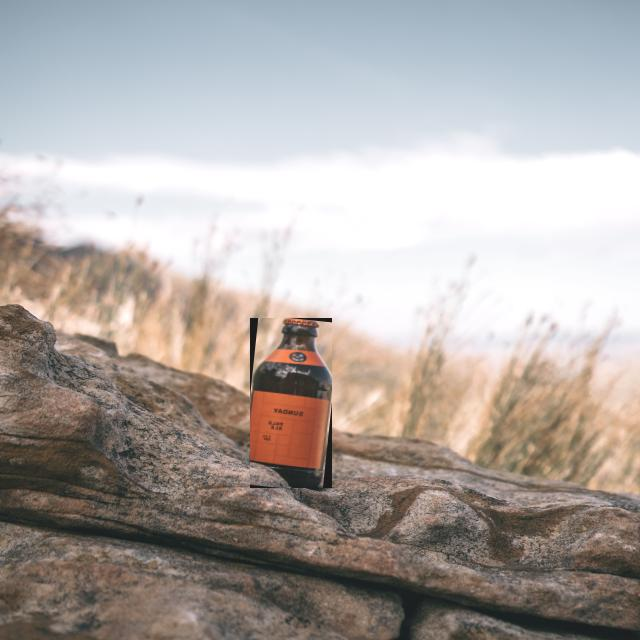Bottle: (250, 318, 330, 488)
